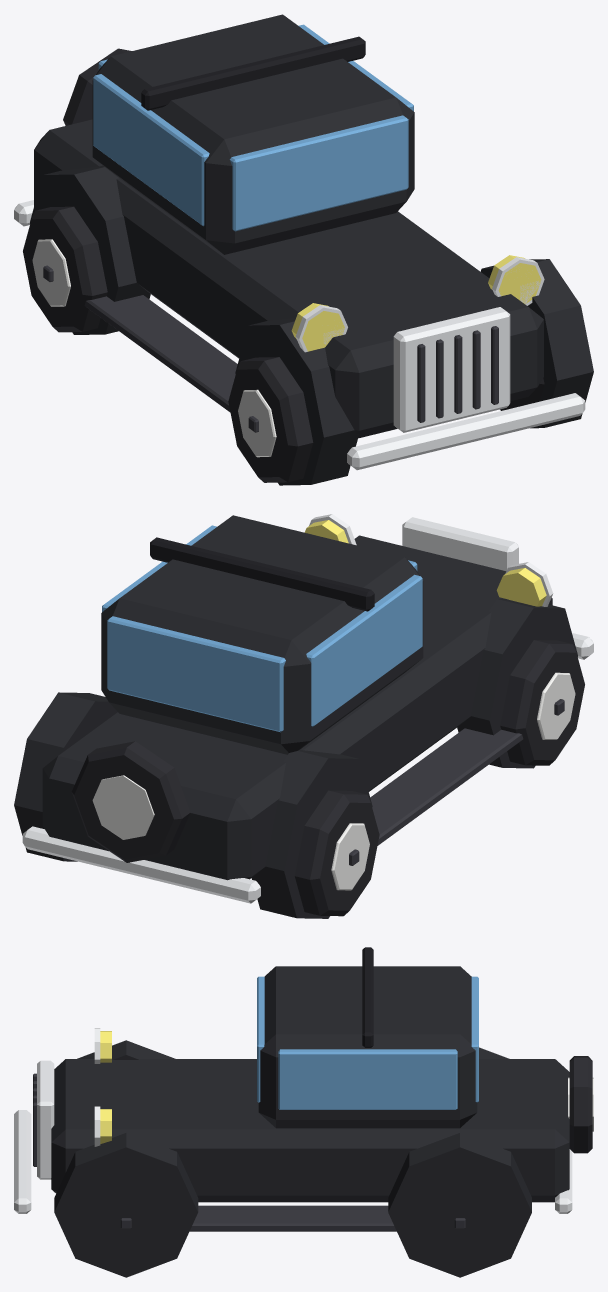
File: BlackClassicCar.fbx
The picture shows the model from 3 angles, top to bottom: view 1: azimuth 30°, elevation 25°; view 2: azimuth 150°, elevation 25°; view 3: azimuth 270°, elevation 25°; orthographic projection. The views are drawn at different scales.
Visible parts, largest first — view 1: BlackClassicCar, BlackClassicCar_WheelFR, BlackClassicCar_WheelBR; view 2: BlackClassicCar, BlackClassicCar_WheelBR, BlackClassicCar_WheelFR; view 3: BlackClassicCar.
Part boxes in pixels (box(x1,y1,x2,y2)): BlackClassicCar: box(14, 14, 593, 485); BlackClassicCar_WheelFR: box(228, 357, 313, 482); BlackClassicCar_WheelBR: box(23, 206, 107, 332); BlackClassicCar: box(14, 514, 593, 918); BlackClassicCar_WheelBR: box(294, 790, 379, 916); BlackClassicCar_WheelFR: box(500, 640, 584, 765); BlackClassicCar: box(14, 947, 593, 1277).
Size of the model in its own units: 4.92 by 4.4 by 10.08.
Materials: 1 (1 with a texture image).
